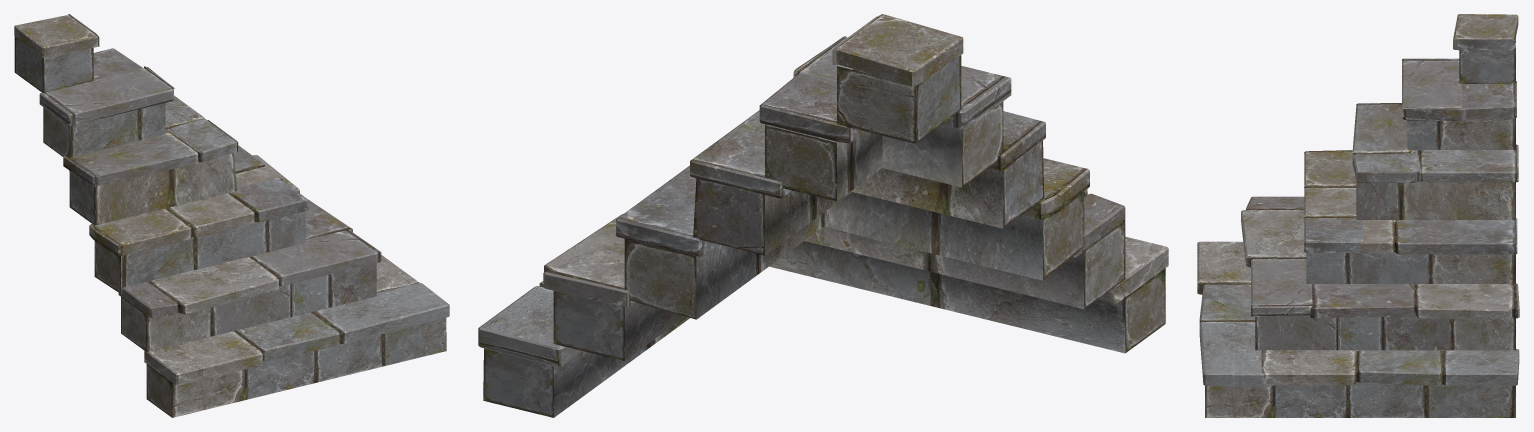
The picture shows the model from 3 angles, left to right: view 1: azimuth 30°, elevation 25°; view 2: azimuth 150°, elevation 25°; view 3: azimuth 270°, elevation 25°; orthographic projection. The views are drawn at different scales.
Parts seen in each view (by area): view 1: SM_BB_T3_Stairs_OurterCorner_LOD0; view 2: SM_BB_T3_Stairs_OurterCorner_LOD0; view 3: SM_BB_T3_Stairs_OurterCorner_LOD0.
Boxes of the visible parts, x1=… form: SM_BB_T3_Stairs_OurterCorner_LOD0: x1=14, y1=14, x2=449, y2=417; SM_BB_T3_Stairs_OurterCorner_LOD0: x1=478, y1=14, x2=1168, y2=417; SM_BB_T3_Stairs_OurterCorner_LOD0: x1=1197, y1=14, x2=1519, y2=417.
Bounding box in the file's own units: 1.6 × 1.49 × 1.6.
Materials: 1 (1 with a texture image).
